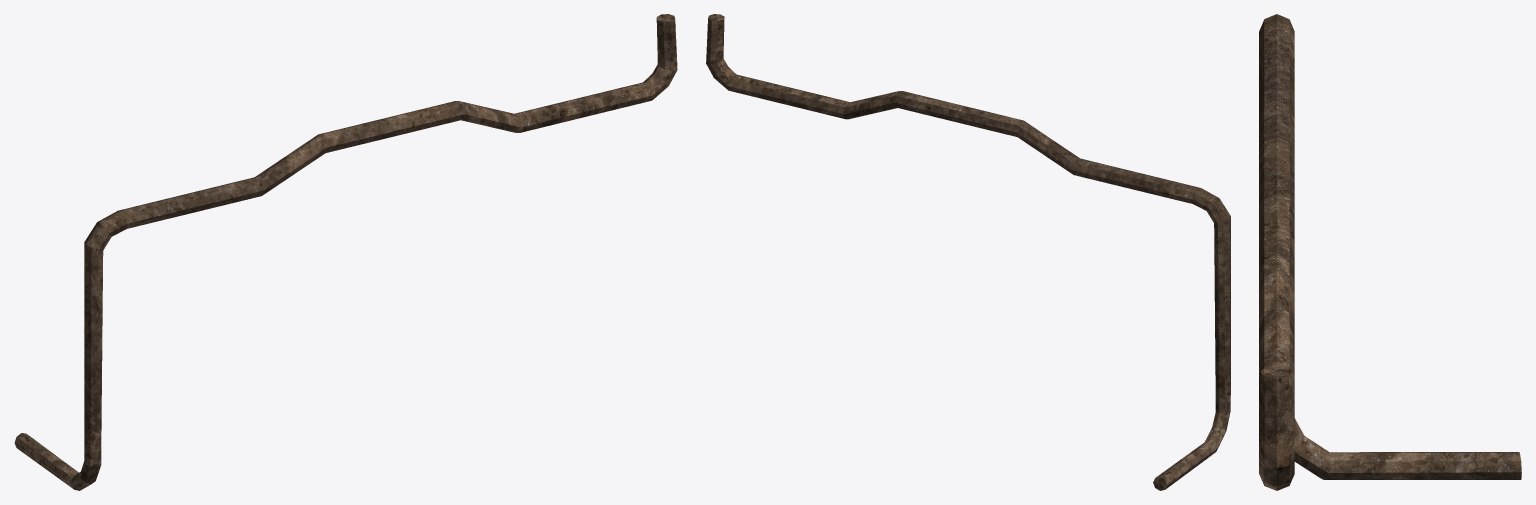
The model's file is Wall_Pipe.fbx.
The picture shows the model from 3 angles, left to right: view 1: azimuth 30°, elevation 25°; view 2: azimuth 150°, elevation 25°; view 3: azimuth 270°, elevation 25°; orthographic projection. The views are drawn at different scales.
Visible parts, largest first — view 1: Wall_Pipe; view 2: Wall_Pipe; view 3: Wall_Pipe.
Boxes of the visible parts, box(x1,y1,x2,y2) form: Wall_Pipe: box(14, 14, 677, 490); Wall_Pipe: box(706, 14, 1230, 490); Wall_Pipe: box(1259, 14, 1521, 490).
Bounding box in the file's own units: 34.95 × 19.39 × 7.89.
